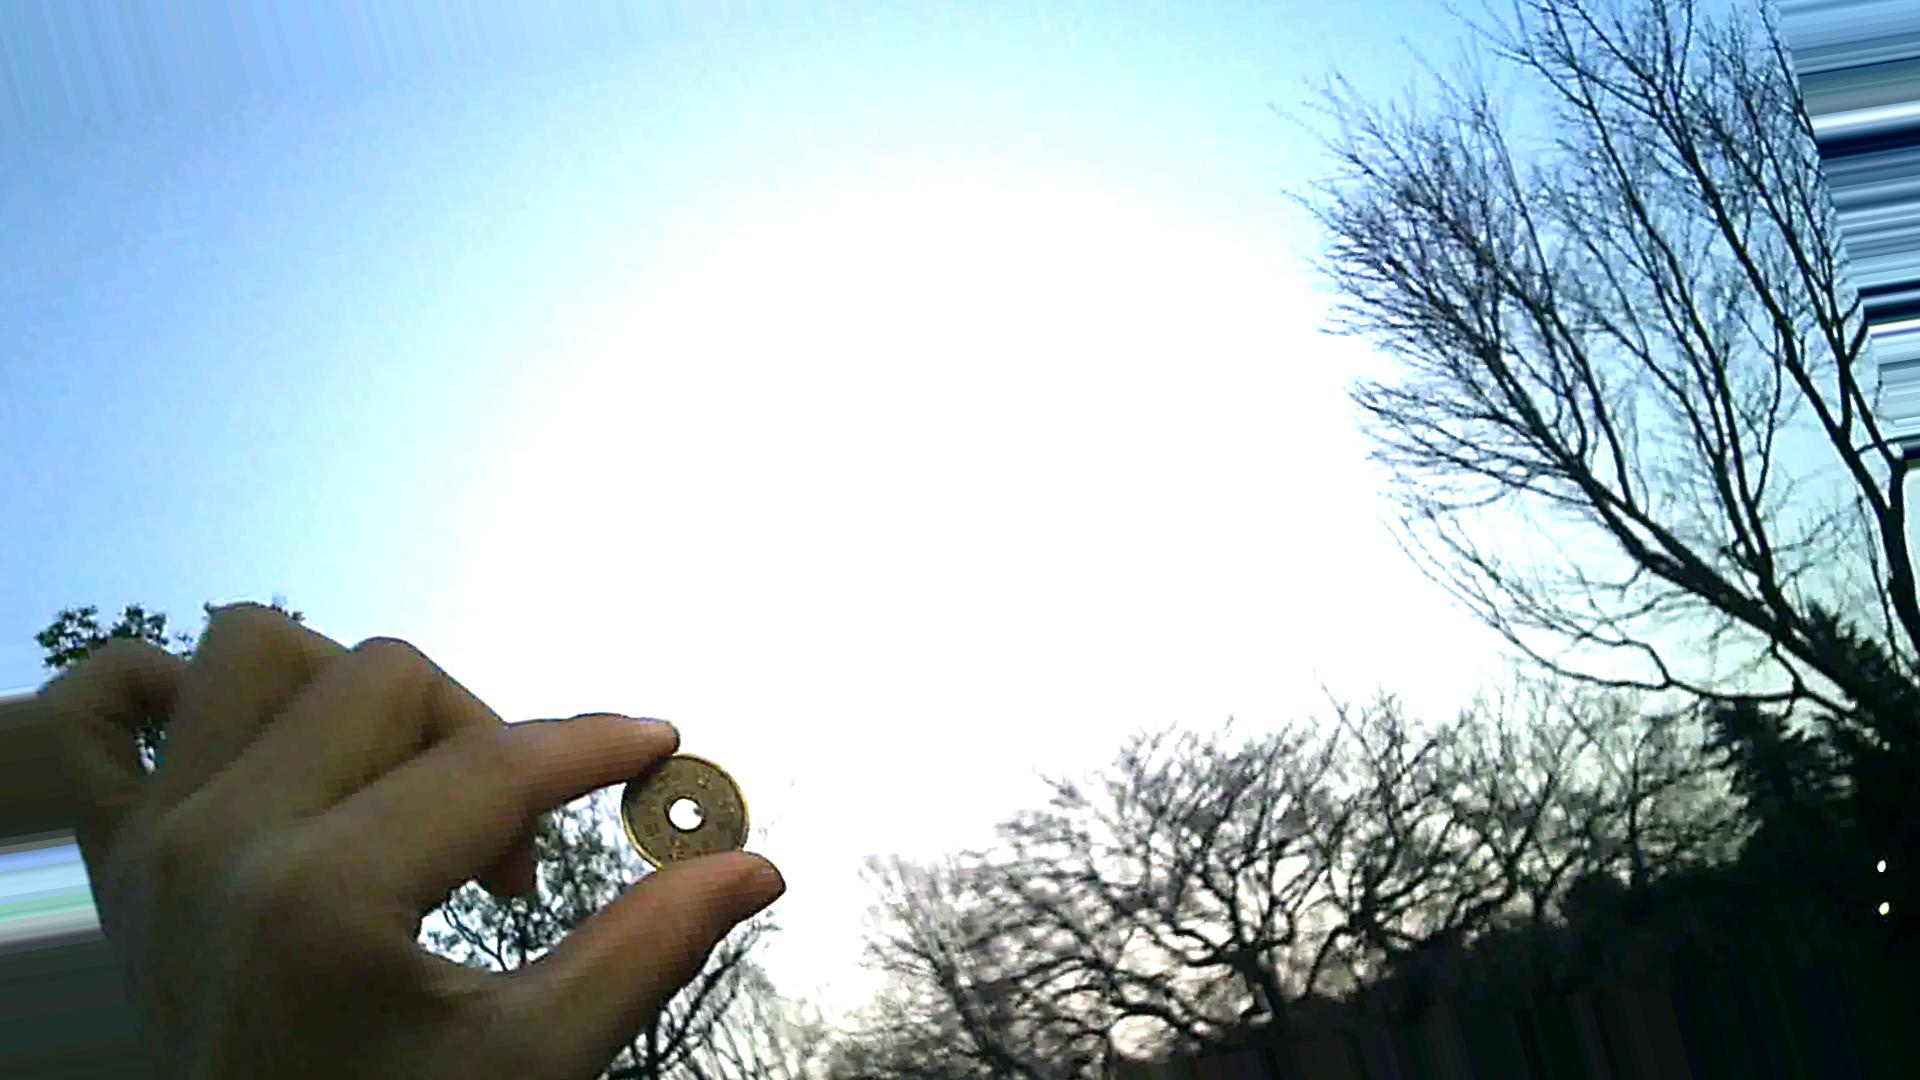5 Yen: (597, 746, 765, 889)
